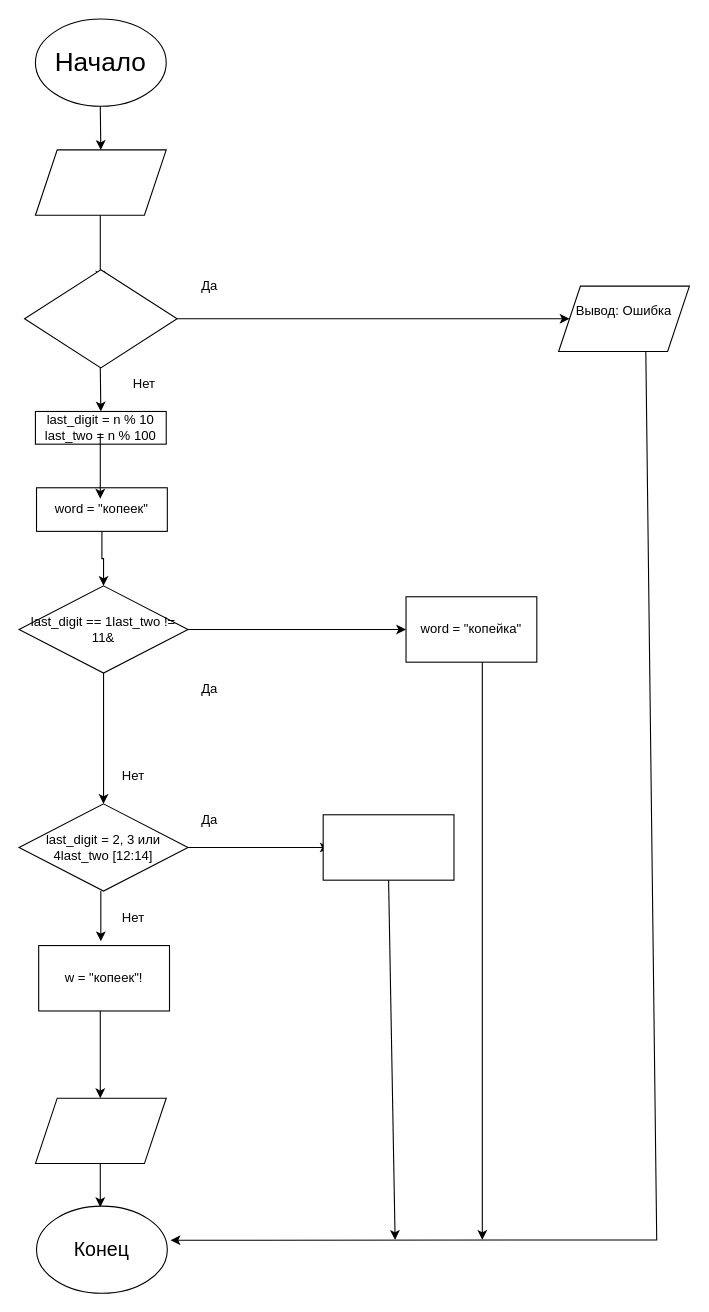
The diagram is 709 pixels wide and 1312 high, and some of its shapes have lost their labels. Each missing label, with the centre of its shape:
n<1 или n>99?: (100,318)
word = "копейки": (388,847)
Ввод n: (100,182)
Вывод n, word: (100,1130)
